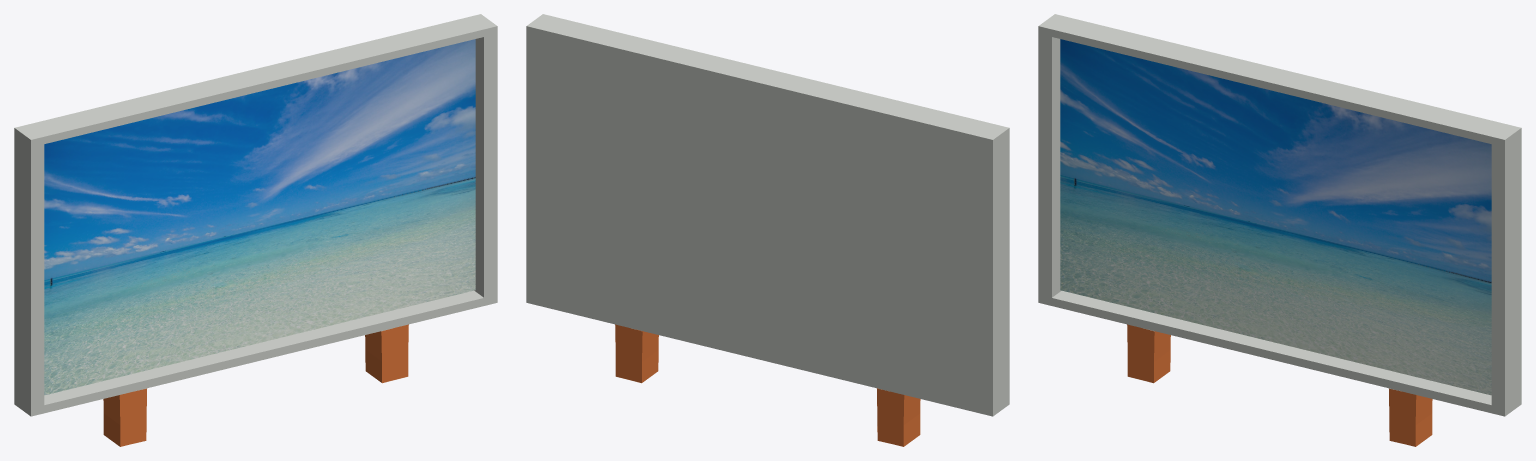
The model's file is frame.glb.
3 views of the same model, side by side, from view 1: azimuth 30°, elevation 25°; view 2: azimuth 150°, elevation 25°; view 3: azimuth 330°, elevation 25° (orthographic).
Parts seen in each view (by area): view 1: test_img, Cube; view 2: Cube; view 3: test_img, Cube.
Part boxes in pixels (box(x1,y1,x2,y2)): test_img: box(44, 39, 475, 395); Cube: box(14, 14, 497, 446); Cube: box(526, 14, 1009, 446); test_img: box(1060, 39, 1491, 395); Cube: box(1038, 14, 1521, 446).
Bounding box in the file's own units: 11.03 × 7.43 × 0.6791.
Materials: 3 (1 with a texture image).
